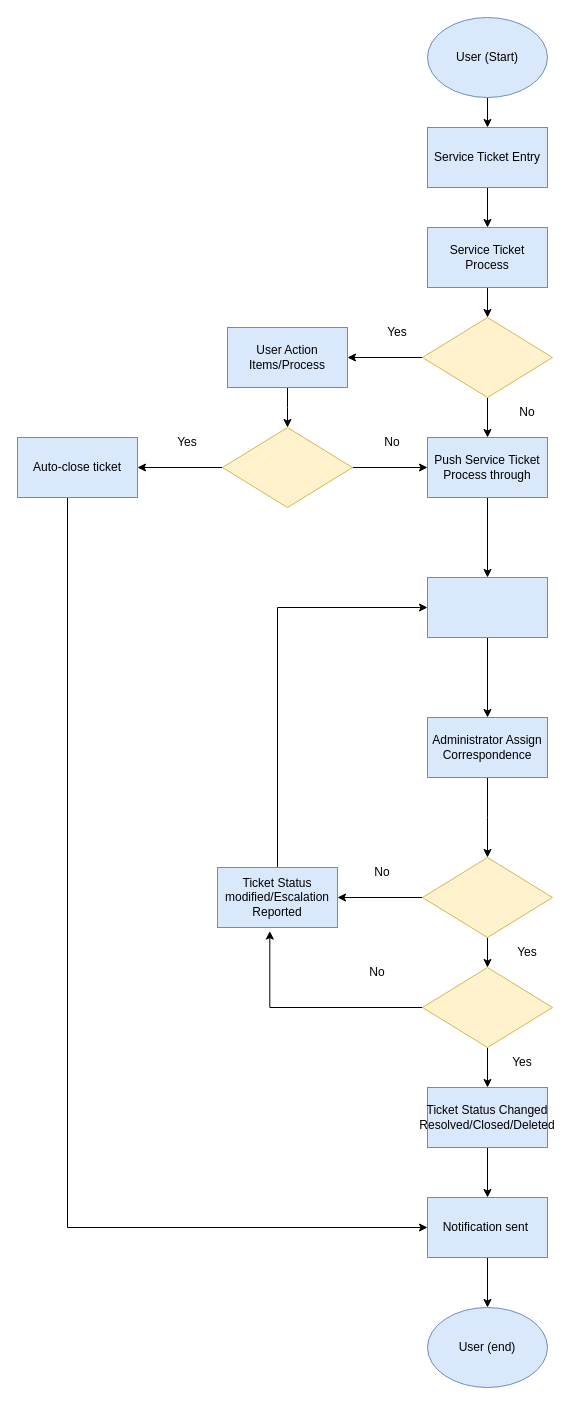
This 575x1405 diagram has some shape labels left out. The box of each missing label's shape, as (x1, y1, x2, y2) in pixels:
Administrator Acknowledge: (426, 576, 548, 638)
Customer/Agent Satisfied?: (422, 966, 552, 1048)
Did user accept relevancy results?: (422, 316, 552, 398)
issue Resolved?: (222, 426, 352, 508)
Technician Issue Resolved?: (422, 856, 552, 938)
